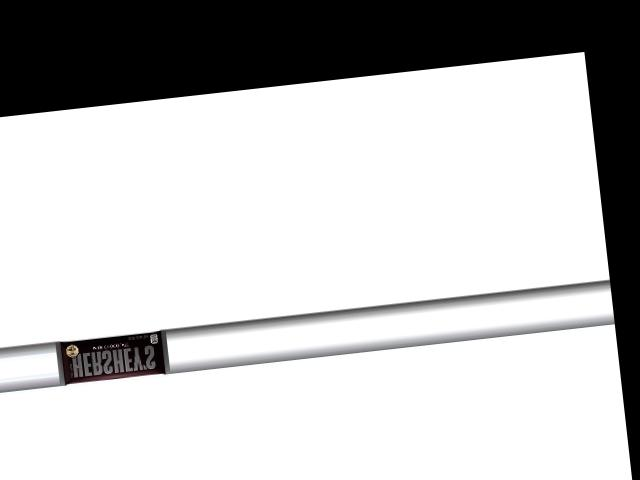chocolate: (56, 324, 170, 384)
